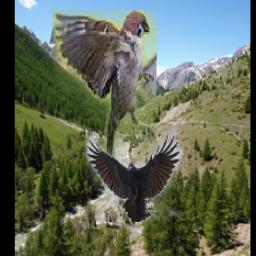Crow: (86, 132, 180, 223)
Sparrow: (53, 10, 157, 177)
